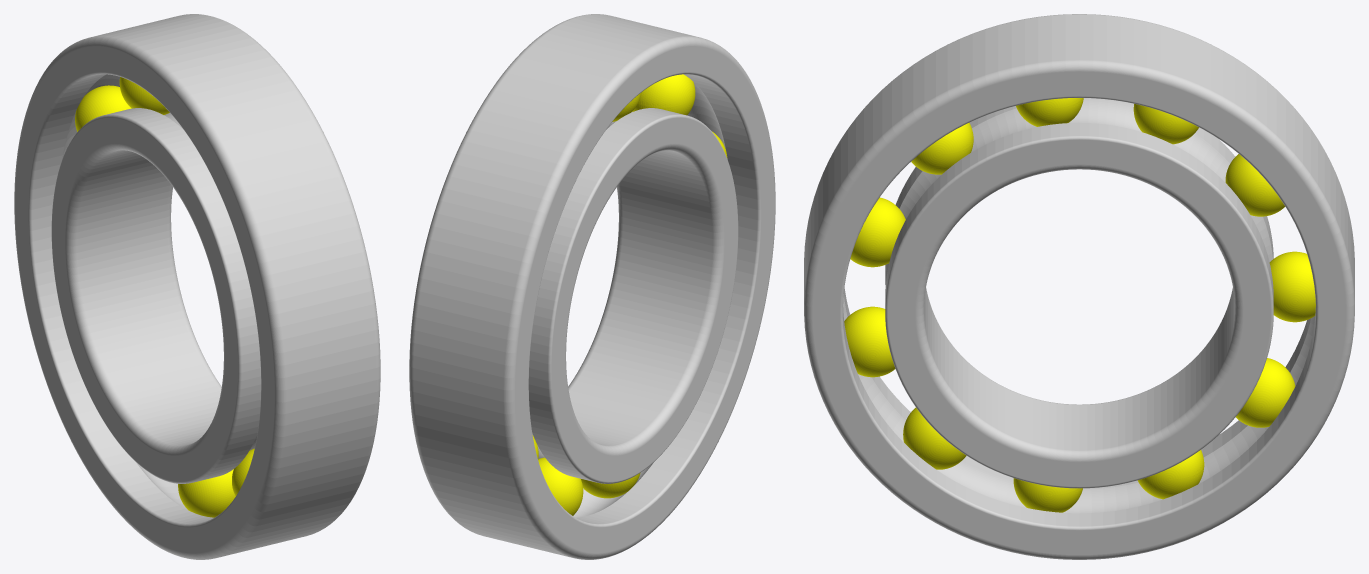
Rendered from model_web.glb.
3 renders of one model, left to right at view 1: azimuth 30°, elevation 25°; view 2: azimuth 150°, elevation 25°; view 3: azimuth 270°, elevation 25°, orthographic. The views are drawn at different scales.
Parts seen in each view (by area): view 1: Node1, Node2; view 2: Node1, Node2; view 3: Node1, Node2.
Boxes of the visible parts, x1,y1,x2,y2 form: Node1: (14,14,380,559); Node2: (75,77,254,517); Node1: (409,14,775,559); Node2: (532,74,727,515); Node1: (804,14,1354,559); Node2: (844,98,1315,512).
Size of the model in its own units: 14 by 62 by 61.98.
